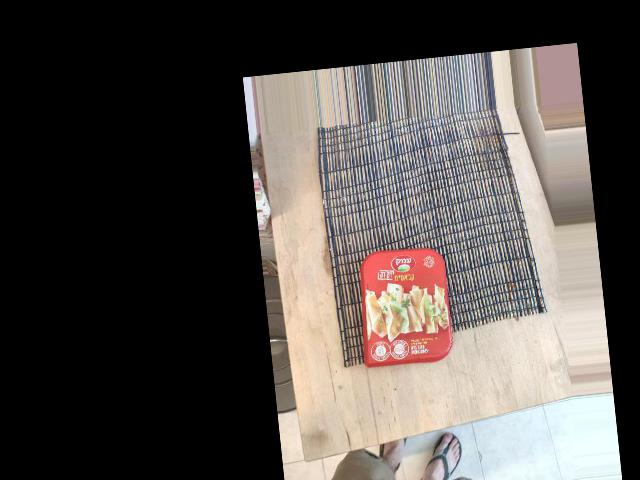cheese: (401, 215, 529, 321)
